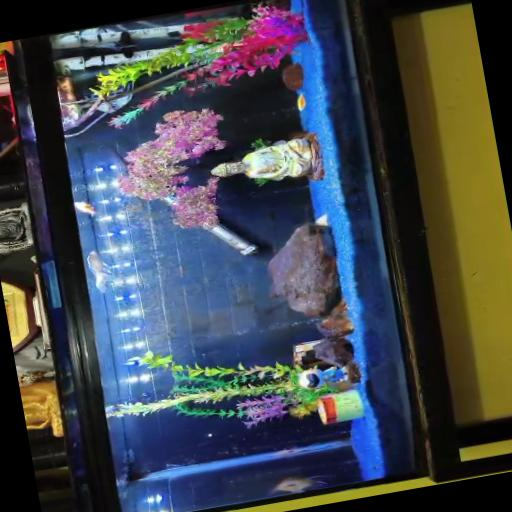Fish: (87, 250, 112, 292), (273, 474, 326, 492), (275, 446, 313, 456), (74, 200, 96, 214), (298, 93, 307, 109)
